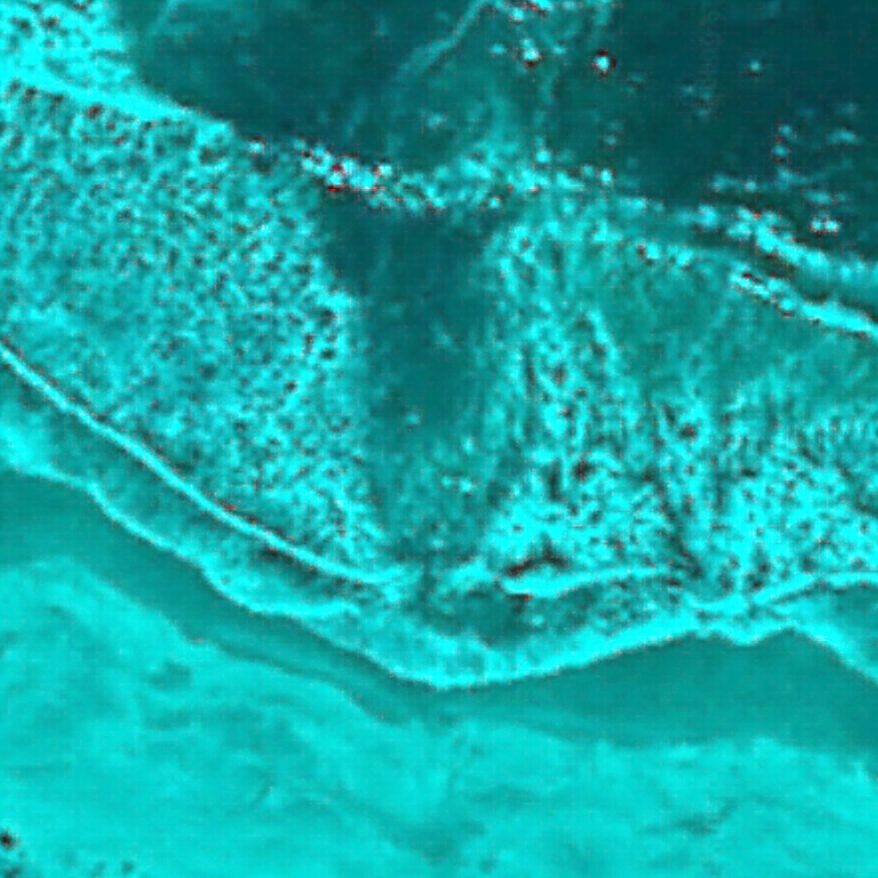rip_current: (274, 48, 578, 576)
